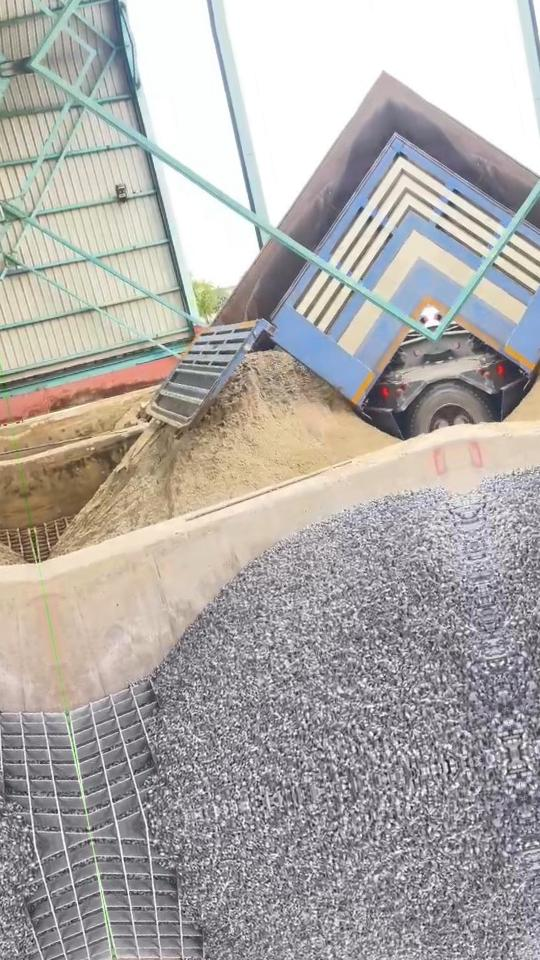gravel: (149, 488, 514, 822)
sand: (53, 350, 397, 555), (111, 394, 151, 430)
